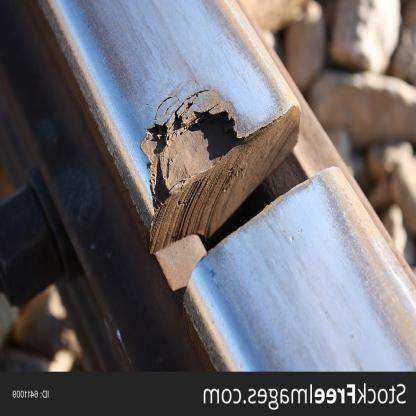Defective: (93, 58, 369, 316)
